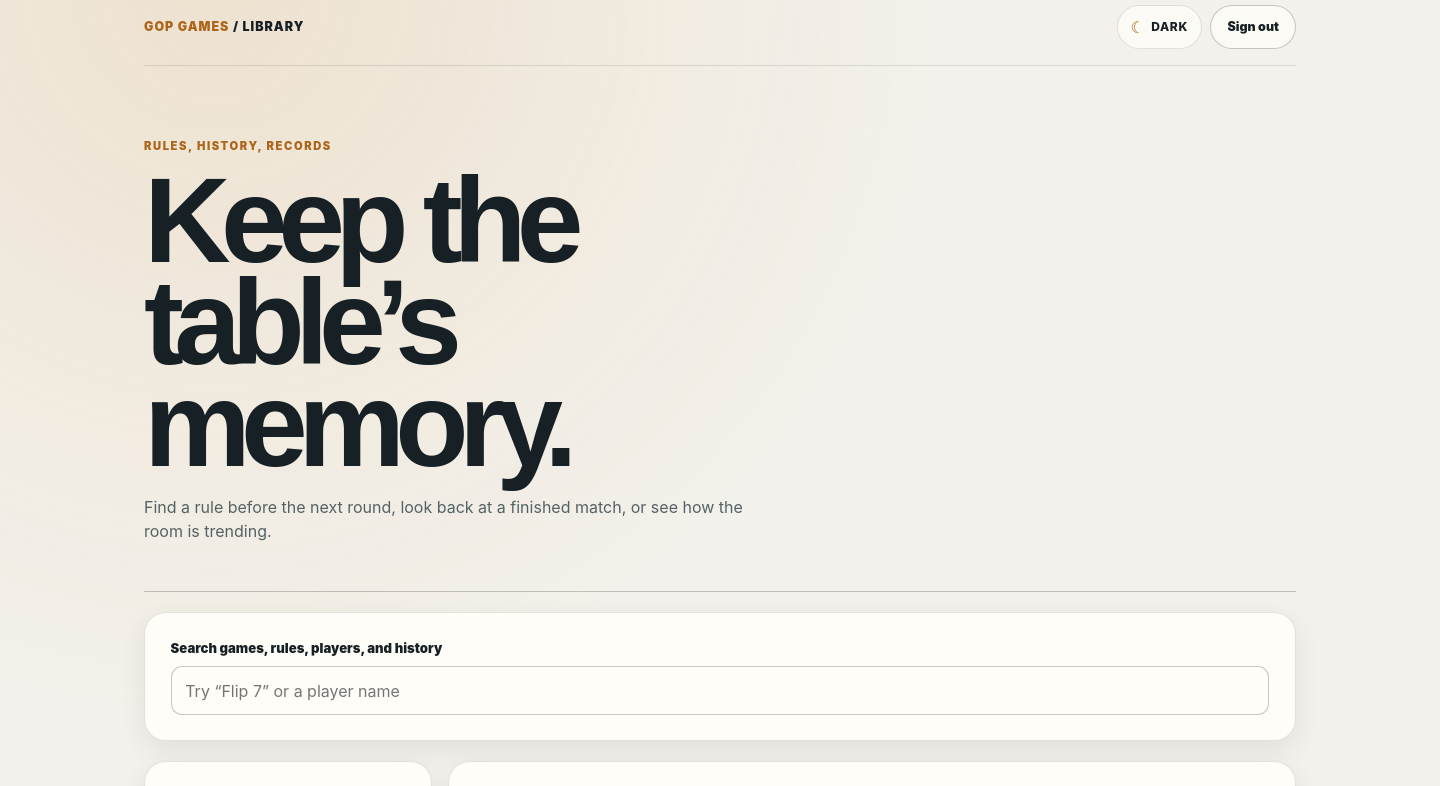
Scenario: LibraryPage › loads rules, records, and filters the library search
Step 1. Type "Flip 7" into the search field → (720, 691), box [171,666,1269,715]
(page scrolled)
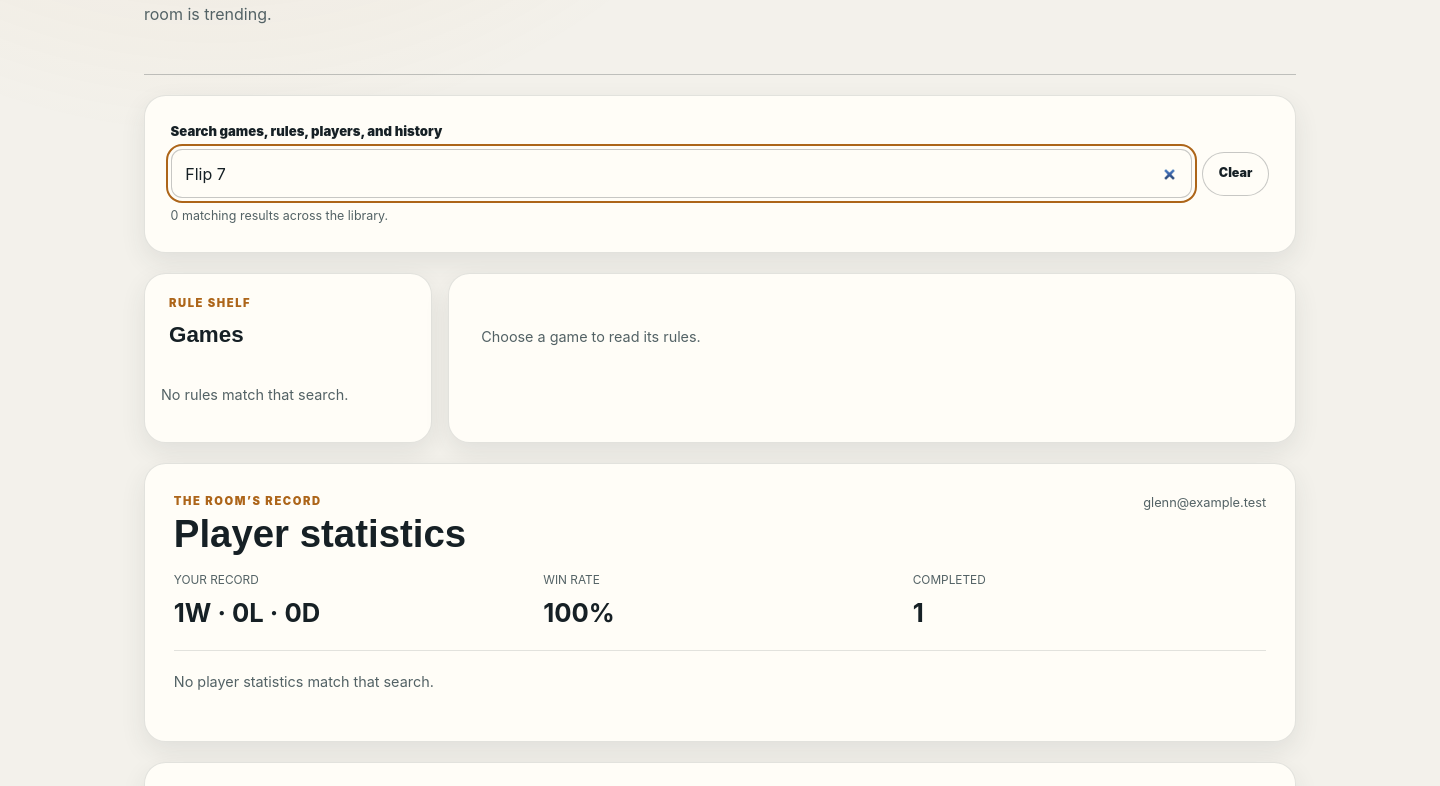
expect the text "No rules match that search." is shown: met, box [161,386,348,403]
